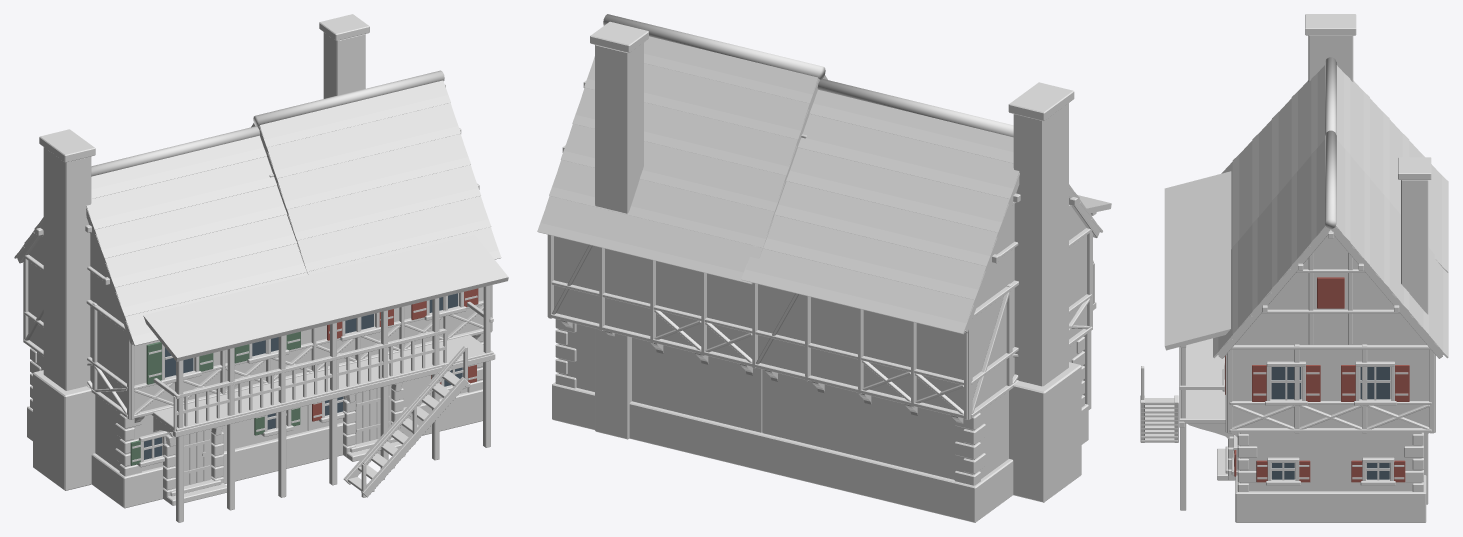
The model's file is col_17_collees_galerie_couverte.fbx.
3 renders of one model, left to right at view 1: azimuth 30°, elevation 25°; view 2: azimuth 150°, elevation 25°; view 3: azimuth 270°, elevation 25°, orthographic. The views are drawn at different scales.
Visible parts, largest first — view 1: col_17_collees_galerie_couverte_LOD0; view 2: col_17_collees_galerie_couverte_LOD0; view 3: col_17_collees_galerie_couverte_LOD0.
Boxes of the visible parts, x1,y1,x2,y2 form: col_17_collees_galerie_couverte_LOD0: [14, 14, 508, 522]; col_17_collees_galerie_couverte_LOD0: [537, 14, 1111, 522]; col_17_collees_galerie_couverte_LOD0: [1140, 14, 1448, 522].
Size of what is drawn, in the model's own units: 11.74 by 9.68 by 8.11.
